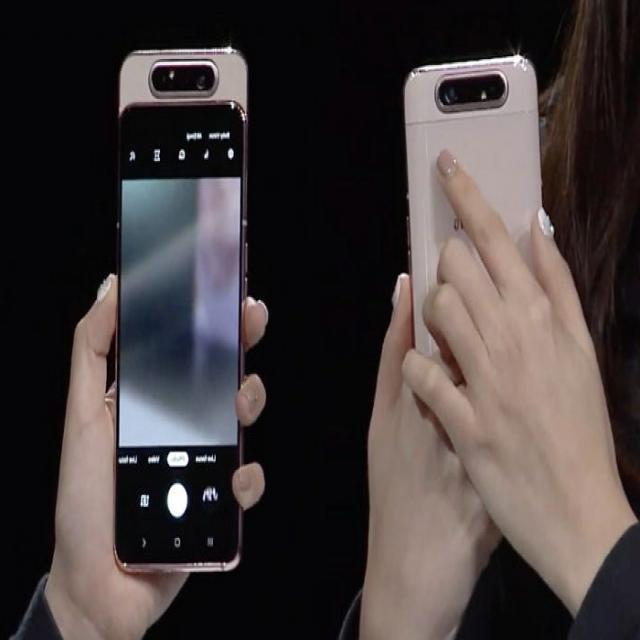mobile: (116, 42, 246, 573), (405, 50, 553, 418)
